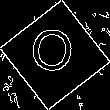O_S: (31, 27, 79, 83)
